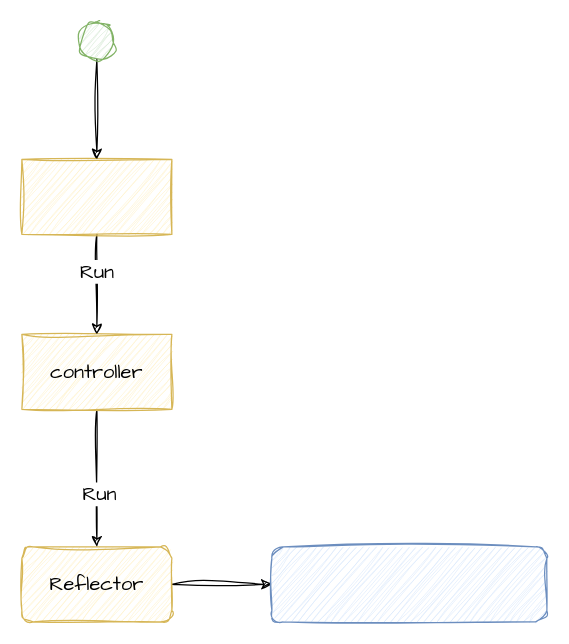
Some shapes in this 569 by 644 pixel diagram are drawn without their labels. Here are the shapes that lost their labels. From the top down, the centre of each, then its label:
(96,196): Informer
(409,584): list() 拉取数据，通过resourceVersion控制拉取全量或者增量
